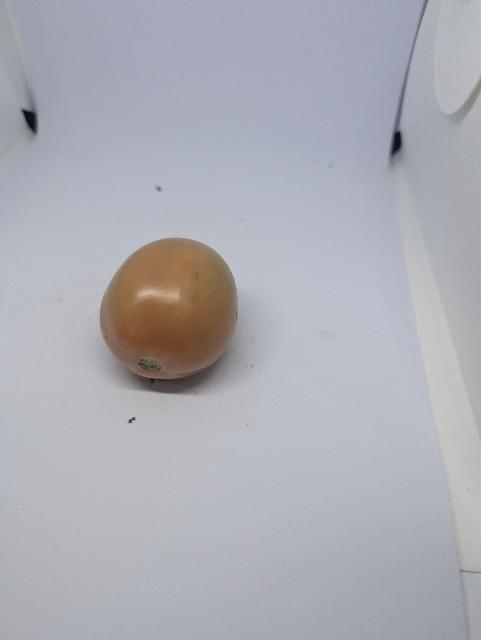turning: (100, 238, 238, 379)
